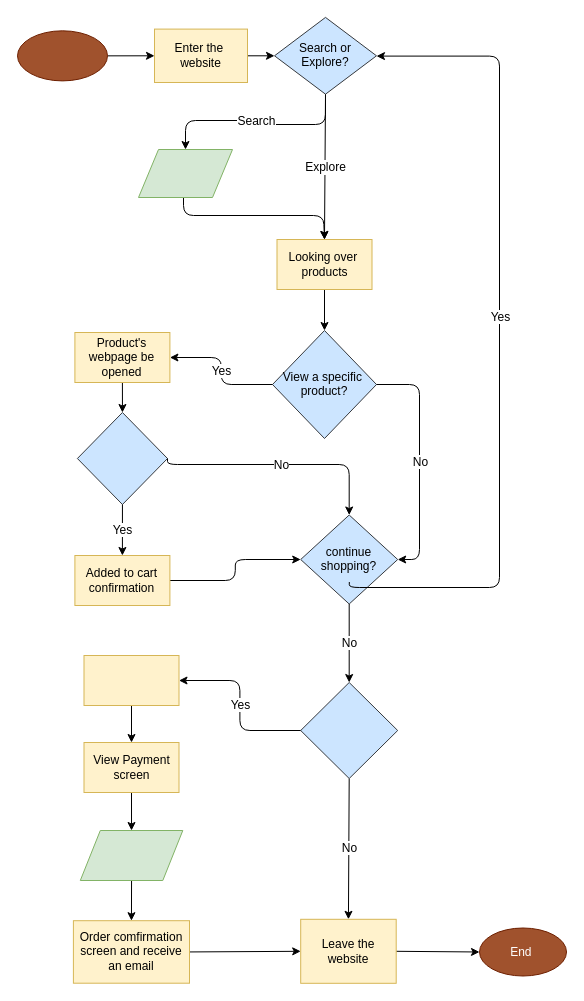
The diagram is 584 pixels wide and 1001 high, and some of its shapes have lost their labels. Here are the shapes that lost their labels. From the top down, the centre of each, then its label:
At pixel 62 55: "Start".
At pixel 185 173: "Input Search".
At pixel 122 458: "Add to cart?".
At pixel 131 680: "View Cart screen".
At pixel 349 730: "Checkout?".
At pixel 131 855: "Payment input".
